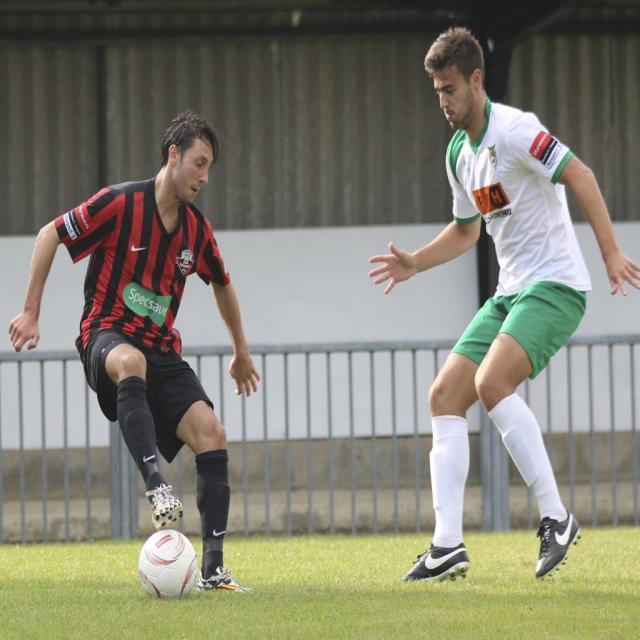ball: (134, 528, 200, 599)
